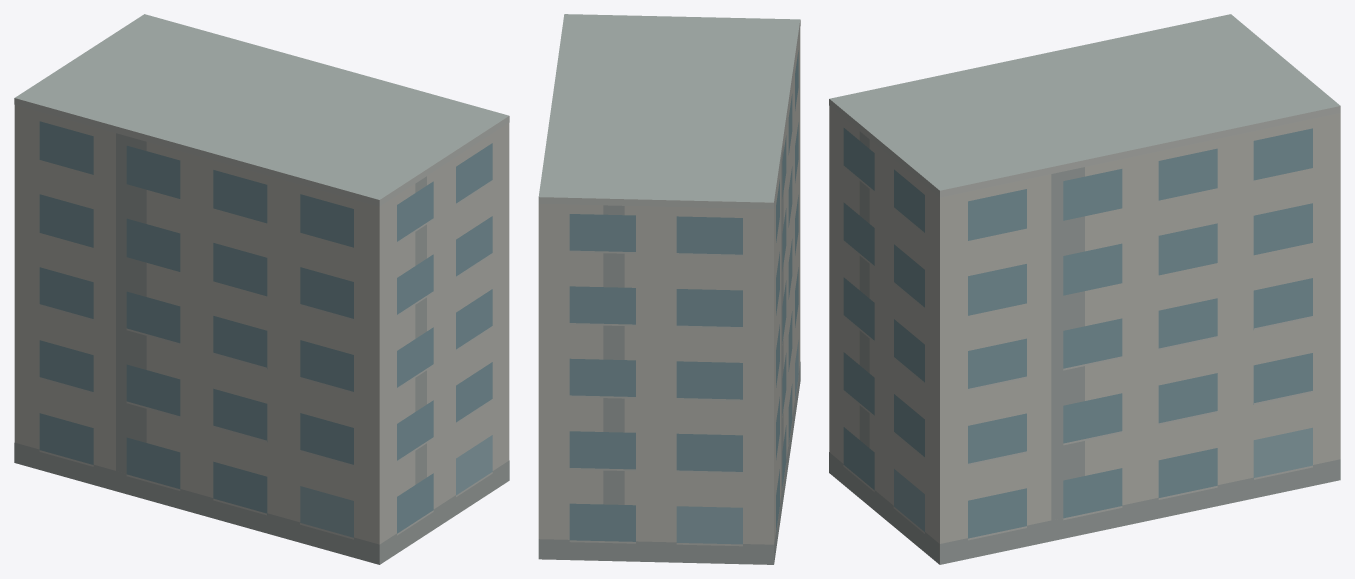
File: survey-upis-32882524.glb
3 renders of one model, left to right at view 1: azimuth 30°, elevation 25°; view 2: azimuth 150°, elevation 25°; view 3: azimuth 270°, elevation 25°, orthographic. The views are drawn at different scales.
Parts seen in each view (by area): view 1: survey-upis-32882524.tmp; view 2: survey-upis-32882524.tmp; view 3: survey-upis-32882524.tmp.
Part boxes in pixels (<box>): survey-upis-32882524.tmp: <box>14,14,509,564</box>; survey-upis-32882524.tmp: <box>538,14,800,564</box>; survey-upis-32882524.tmp: <box>829,14,1340,564</box>.
Bounding box in the file's own units: 13.28 × 13.1 × 16.24.
